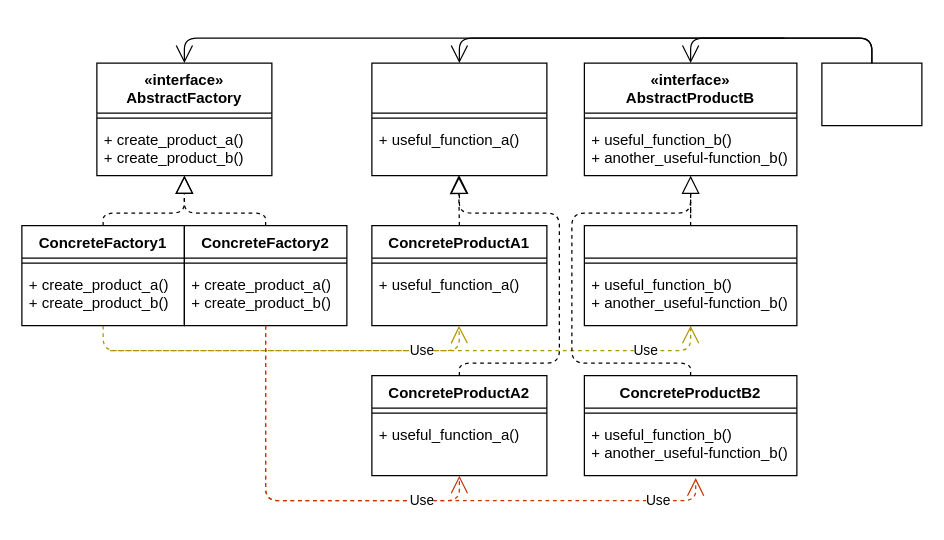
This 944x540 diagram has some shape labels left out. The box of each missing label's shape, as (x1, y1, x2, y2) in pixels:
ConcreteProductB1: (583, 224, 797, 326)
«interface» AbstractProductA: (371, 62, 547, 176)
«interface» Client: (821, 62, 922, 126)
